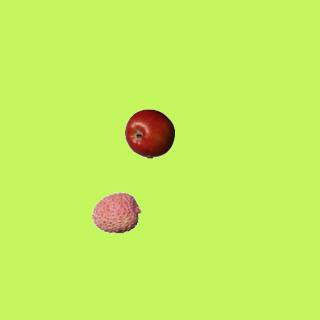Apple Braeburn: (124, 108, 174, 158)
Lychee: (91, 187, 141, 237)
